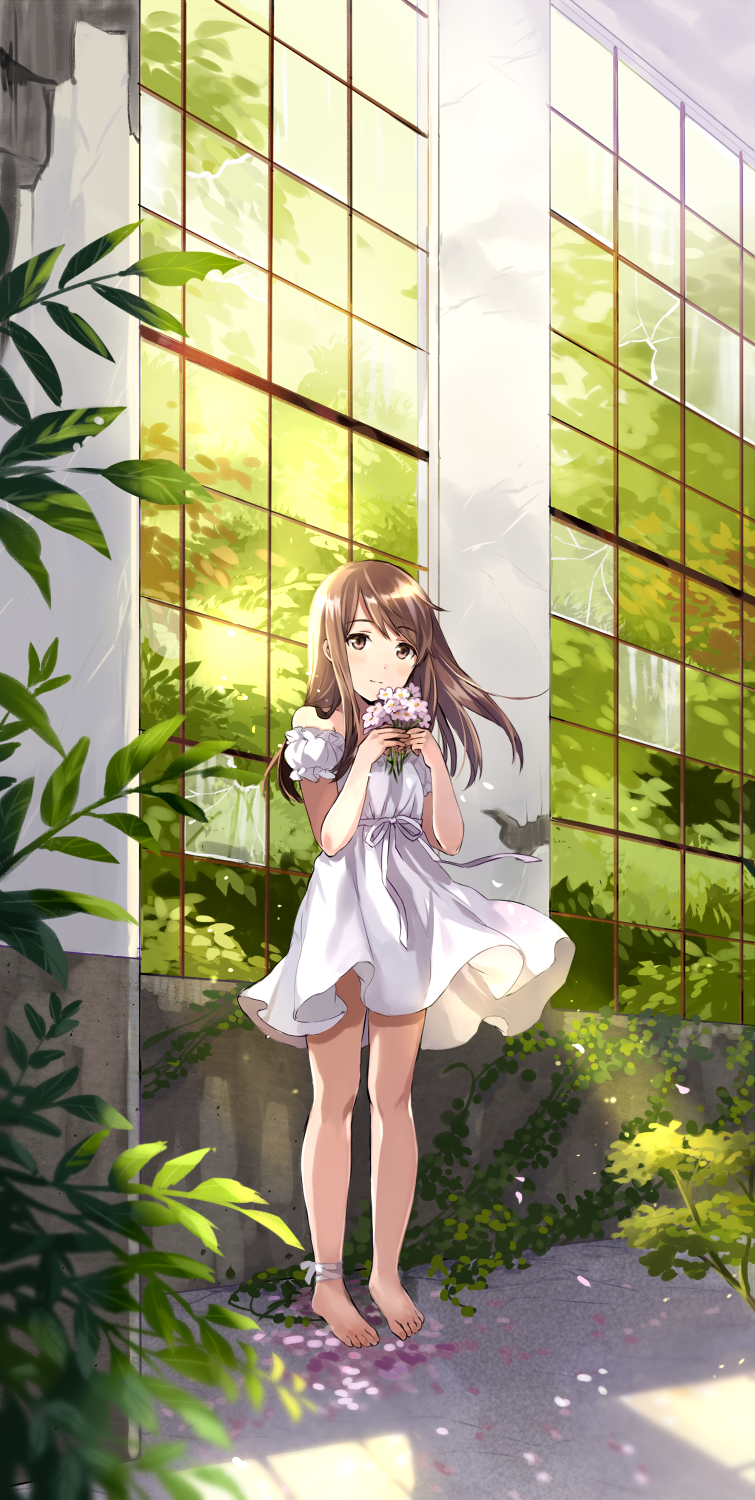纸片人正脸: (303, 554, 445, 708)
